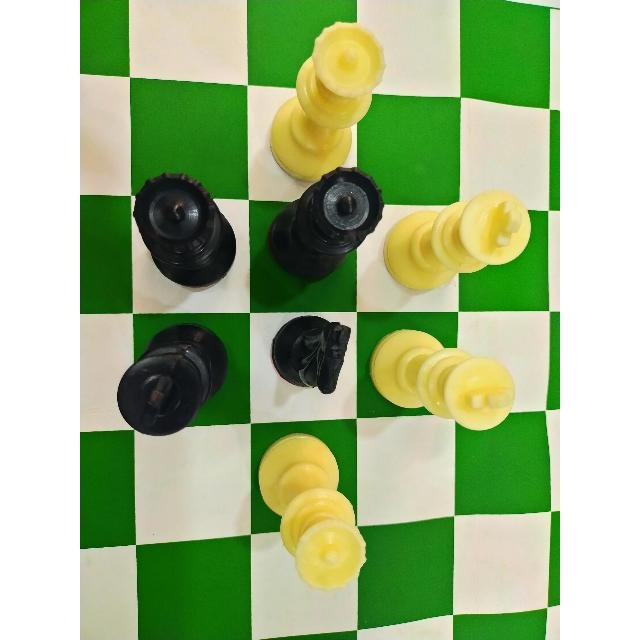black-king: (111, 322, 226, 448)
black-knight: (266, 311, 349, 401)
black-queen: (119, 167, 236, 288), (267, 168, 382, 286)
white-king: (384, 183, 534, 294), (363, 328, 515, 435)
white-queen: (252, 431, 368, 595), (270, 18, 385, 180)
